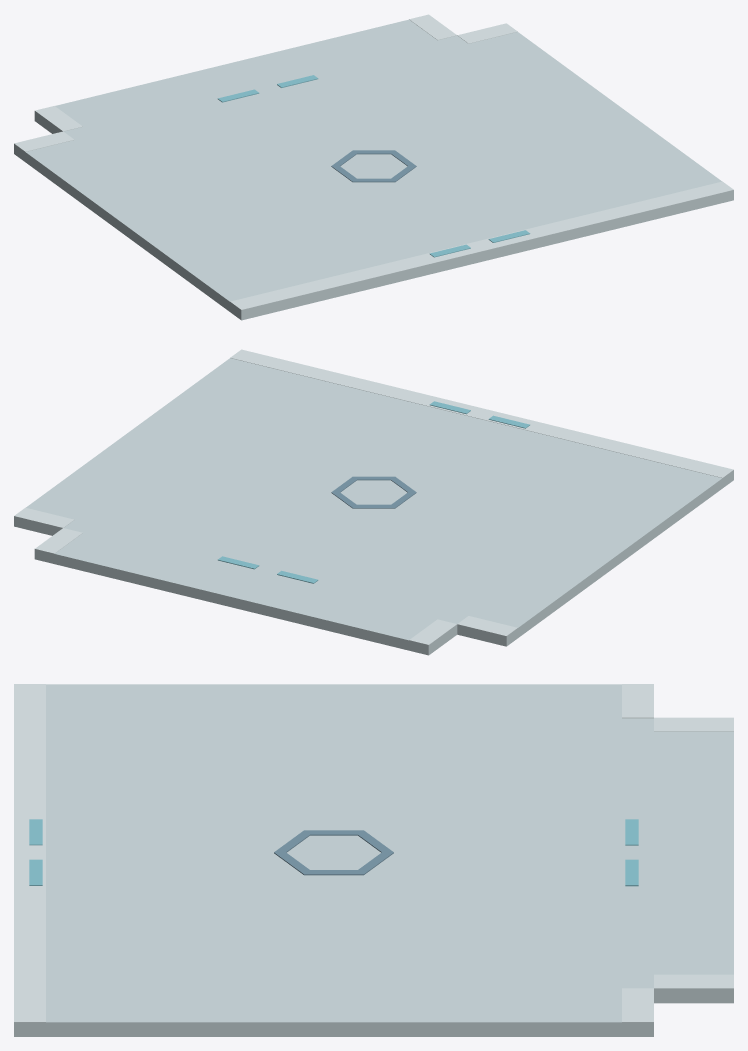
Rendered from campus_walk_junction_v01.glb.
3 views of the same model, one above another, from view 1: azimuth 30°, elevation 25°; view 2: azimuth 150°, elevation 25°; view 3: azimuth 270°, elevation 25° (orthographic). The views are drawn at different scales.
Visible parts, largest first — view 1: campus_walk_junction; view 2: campus_walk_junction; view 3: campus_walk_junction.
Part boxes in pixels (<box>): campus_walk_junction: <box>14,14,733,320</box>; campus_walk_junction: <box>14,349,733,655</box>; campus_walk_junction: <box>14,684,733,1036</box>.
Bounding box in the file's own units: 4 × 0.087 × 3.6.
Materials: 1 (1 with a texture image).
